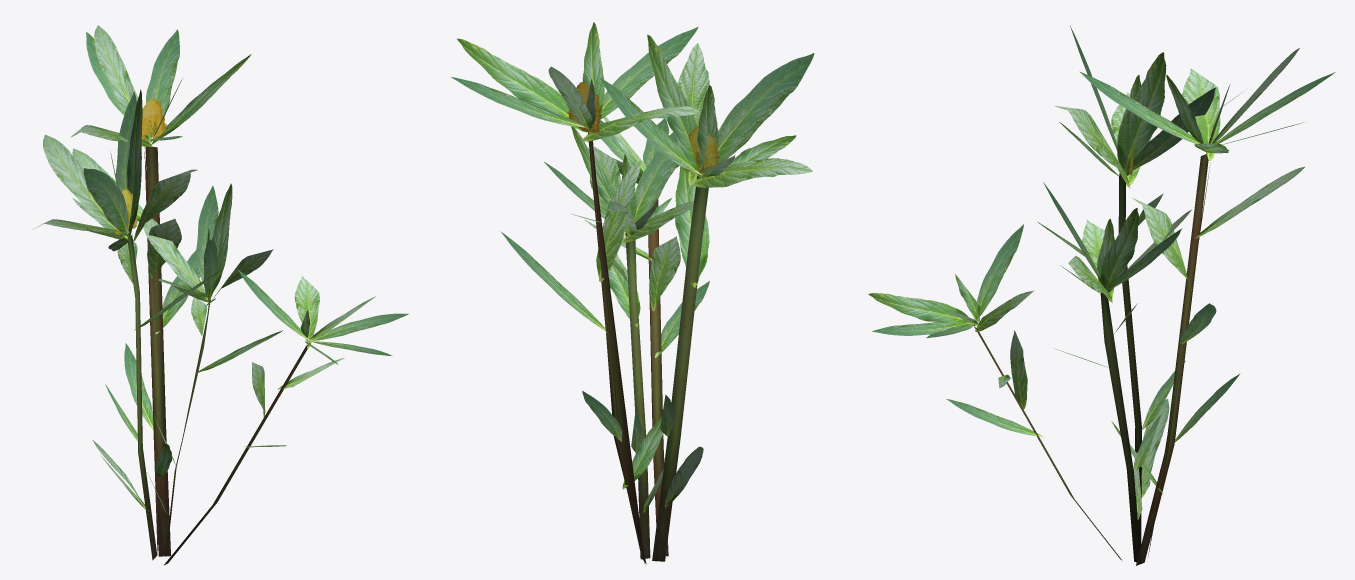
Rendered from leafplant7_lod2.fbx.
The picture shows the model from 3 angles, left to right: view 1: azimuth 30°, elevation 25°; view 2: azimuth 150°, elevation 25°; view 3: azimuth 270°, elevation 25°; orthographic projection. The views are drawn at different scales.
Parts seen in each view (by area): view 1: Mesh Object; view 2: Mesh Object; view 3: Mesh Object.
Part boxes in pixels (x1=…): Mesh Object: x1=33, y1=25, x2=408, y2=565; Mesh Object: x1=451, y1=22, x2=814, y2=564; Mesh Object: x1=868, y1=25, x2=1335, y2=565.
Bounding box in the file's own units: 1.58 × 2.37 × 1.94.
